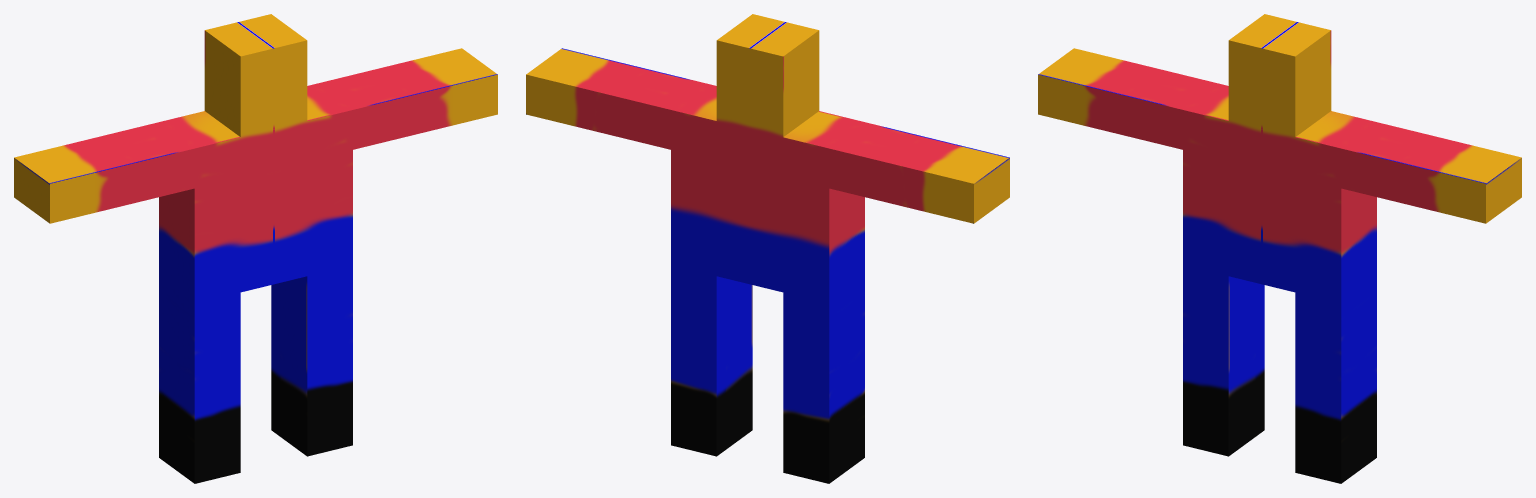
The model's file is human.gltf.
3 renders of one model, left to right at view 1: azimuth 30°, elevation 25°; view 2: azimuth 150°, elevation 25°; view 3: azimuth 330°, elevation 25°, orthographic.
Parts seen in each view (by area): view 1: Cube; view 2: Cube; view 3: Cube.
Boxes of the visible parts, x1,y1,x2,y2 form: Cube: (14, 14, 497, 483); Cube: (526, 14, 1009, 483); Cube: (1038, 14, 1521, 483).
Bounding box in the file's own units: 2.53 × 2.25 × 0.3522.
1 material, 1 textured.
